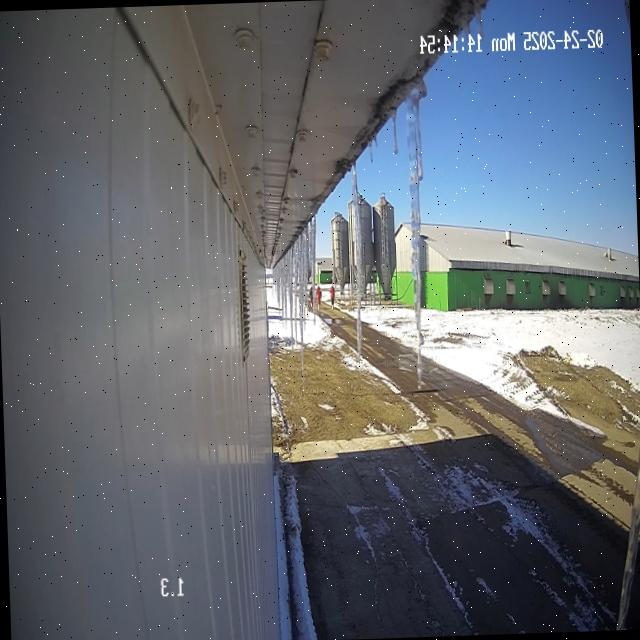Red uniform: (329, 283, 335, 306), (316, 285, 321, 309), (308, 287, 313, 311)
